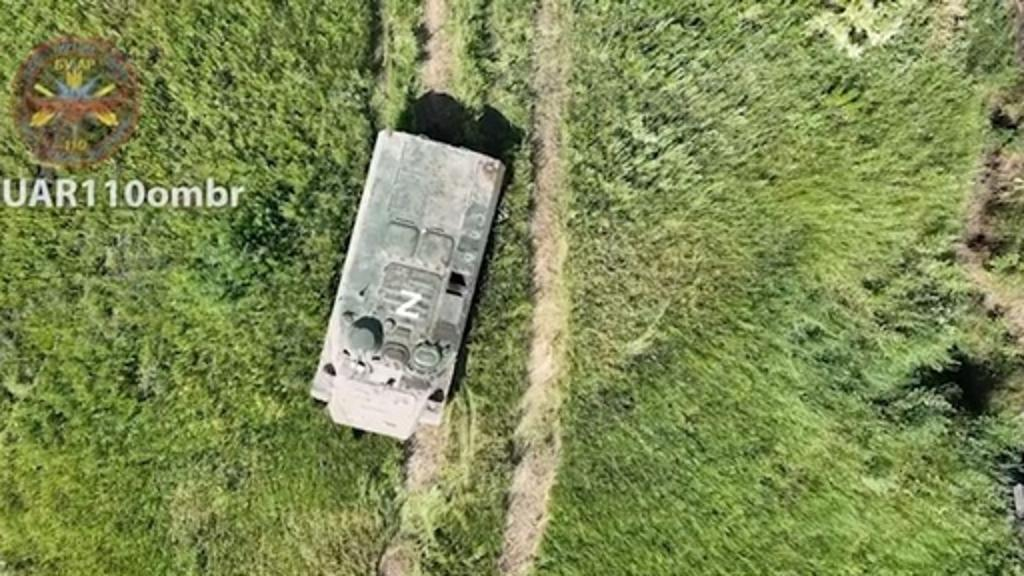APC-IFV: (292, 116, 510, 454)
